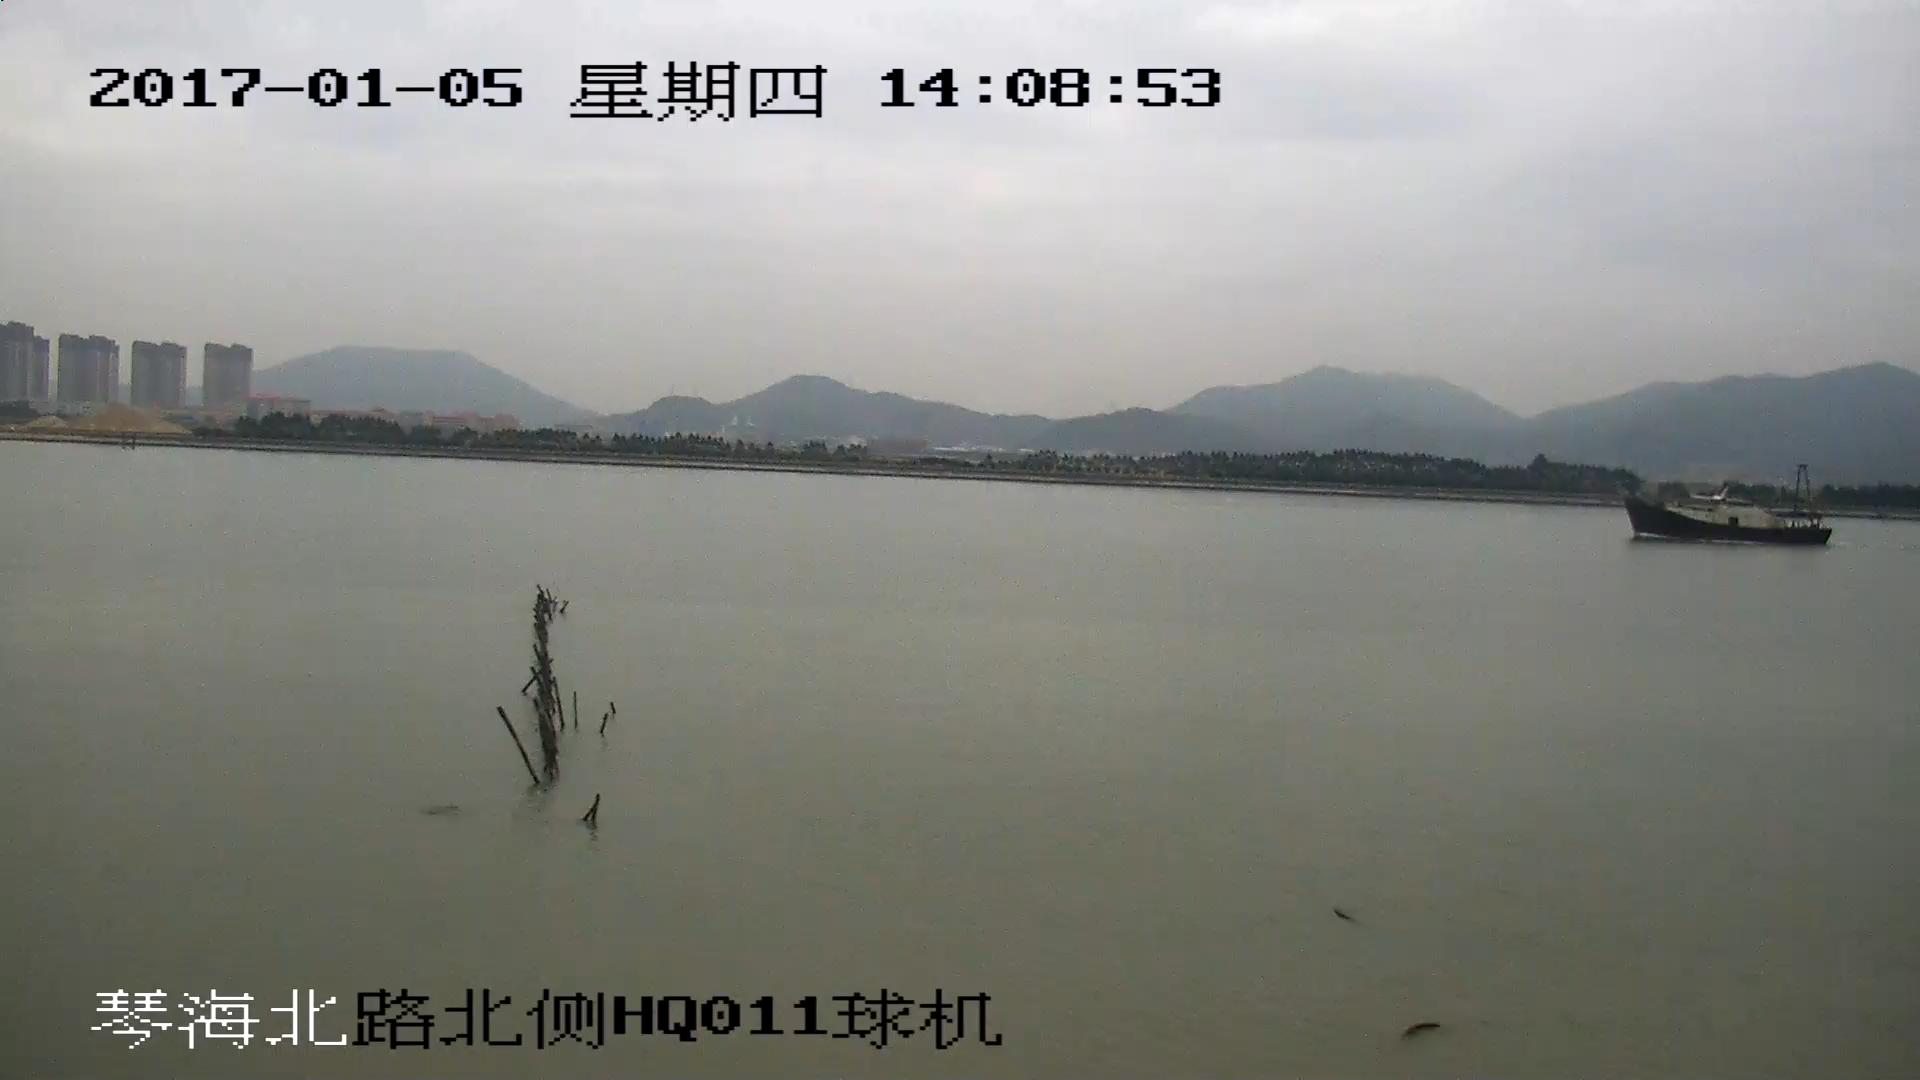fishing boat: (1622, 486, 1830, 545)
